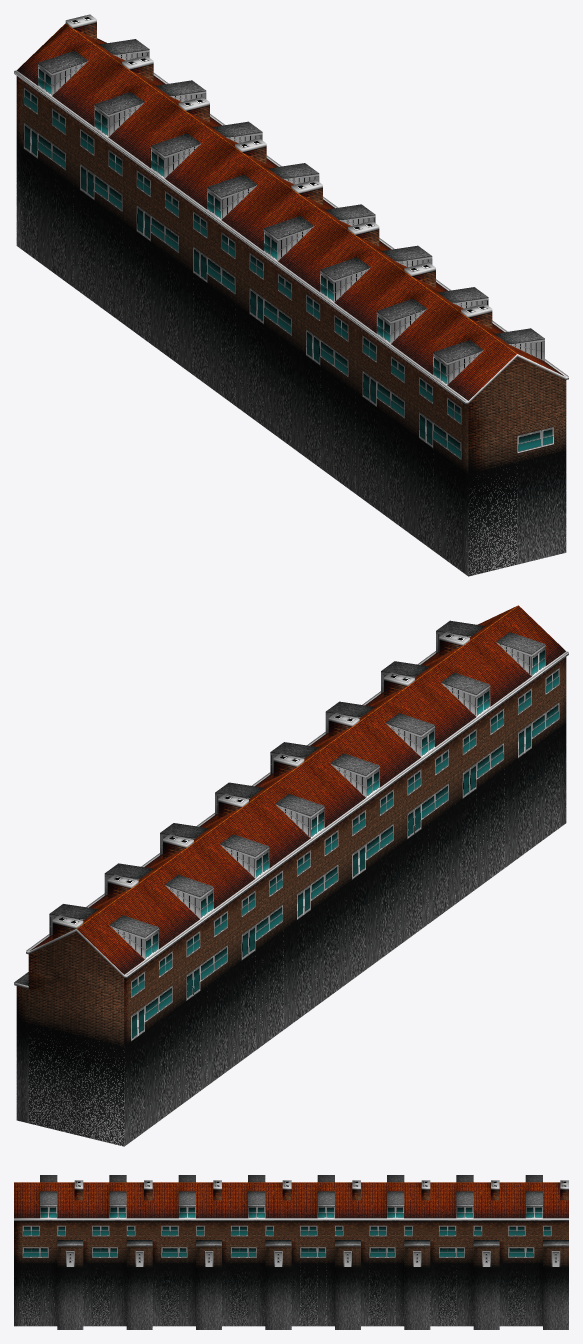
The model's file is doorzon_mod2_4a.fbx.
3 views of the same model, one above another, from view 1: azimuth 30°, elevation 25°; view 2: azimuth 150°, elevation 25°; view 3: azimuth 270°, elevation 25° (orthographic). The views are drawn at different scales.
Parts seen in each view (by area): view 1: doorzon_mod2_4a; view 2: doorzon_mod2_4a; view 3: doorzon_mod2_4a.
Part boxes in pixels (x1,y1,x2,y2): doorzon_mod2_4a: (14, 14, 568, 576); doorzon_mod2_4a: (14, 605, 568, 1146); doorzon_mod2_4a: (14, 1175, 568, 1329).
Bounding box in the file's own units: 1062 × 1879 × 7200.
